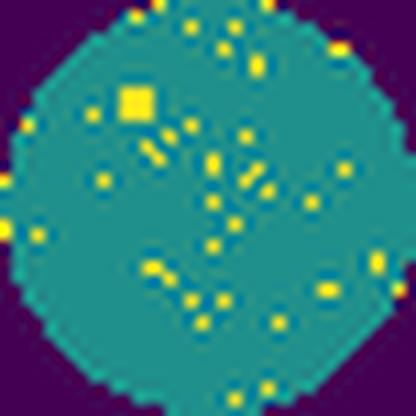Loc: (117, 87, 157, 122)
